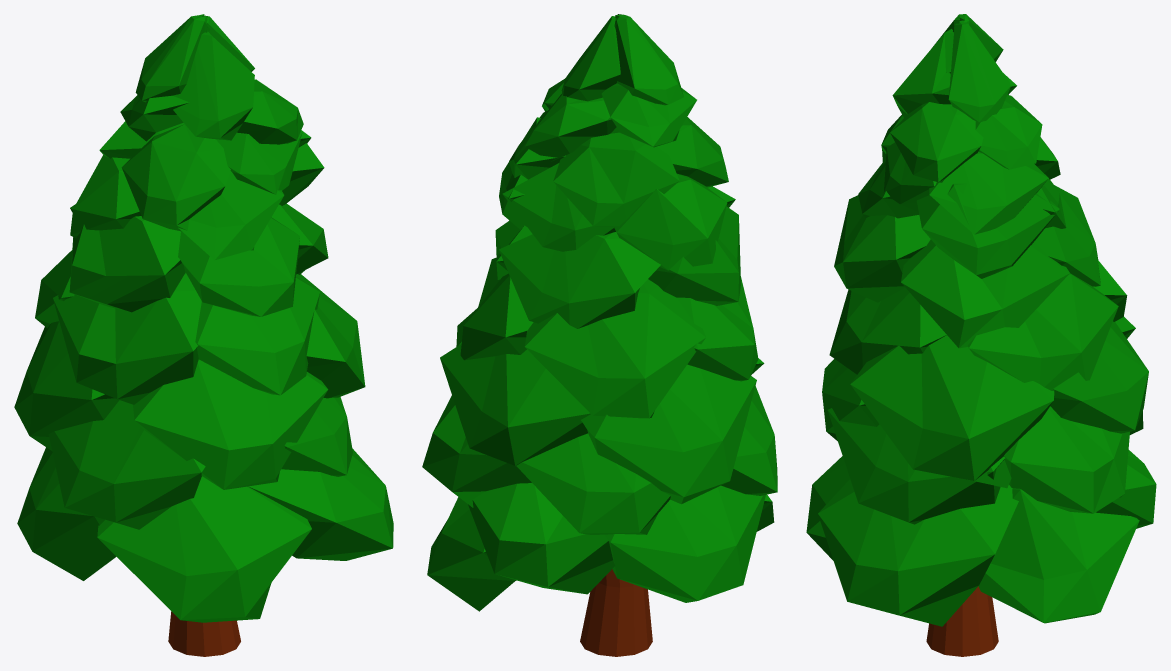
Rendered from tree3.fbx.
3 views of the same model, side by side, from view 1: azimuth 30°, elevation 25°; view 2: azimuth 150°, elevation 25°; view 3: azimuth 270°, elevation 25° (orthographic).
Visible parts, largest first — view 1: Cylinder; view 2: Cylinder; view 3: Cylinder.
Part boxes in pixels (bbox=[...]): Cylinder: bbox=[14, 14, 393, 656]; Cylinder: bbox=[422, 14, 777, 656]; Cylinder: bbox=[806, 14, 1156, 656].
Size of the model in its own units: 976 by 1898 by 968.
